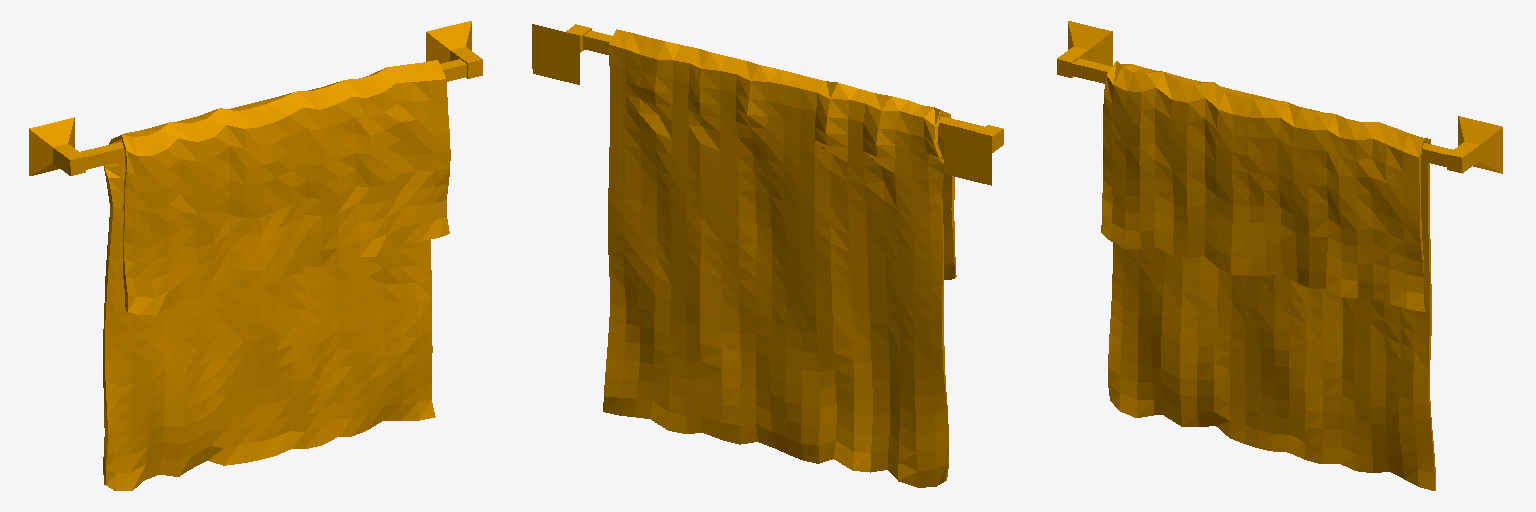
URDF robot description (none):
<robot name="none">
       <link name="none">
           <visual>
               <origin rpy="1.57 0 0" xyz="0 0 0" />
               <geometry>
                   <mesh filename="towel3.obj" />
               </geometry>
           </visual>
          <collision>
              <geometry>
                  <box size="1.000000 0.802823 0.136344" />
              </geometry>
          </collision>

          <inertial>
            <mass value="0.0" />
            <inertia ixx="0.0" ixy="0.0" ixz="0.0" iyy="0.0" iyz="0.0" izz="0.0" />
          </inertial>
      </link>
  </robot>

--- What the picture shows (computed from the rendered views, not written in the file) ---
The picture shows the robot from 3 angles, left to right: view 1: azimuth 30°, elevation 25°; view 2: azimuth 150°, elevation 25°; view 3: azimuth 330°, elevation 25°; orthographic projection.
Model none with 1 links and 0 joints (none), rooted at none, posed every joint at zero.
Links seen in each view (by area): view 1: none; view 2: none; view 3: none.
Link boxes in pixels (box(x1,y1,x2,y2)): none: box(29, 21, 482, 490); none: box(532, 24, 1003, 487); none: box(1057, 21, 1502, 490).
Size in the robot's own frame: 1 by 0.1367 by 0.8028 metres.
1 mesh visuals loaded from 1 distinct referenced files (1 OBJ).